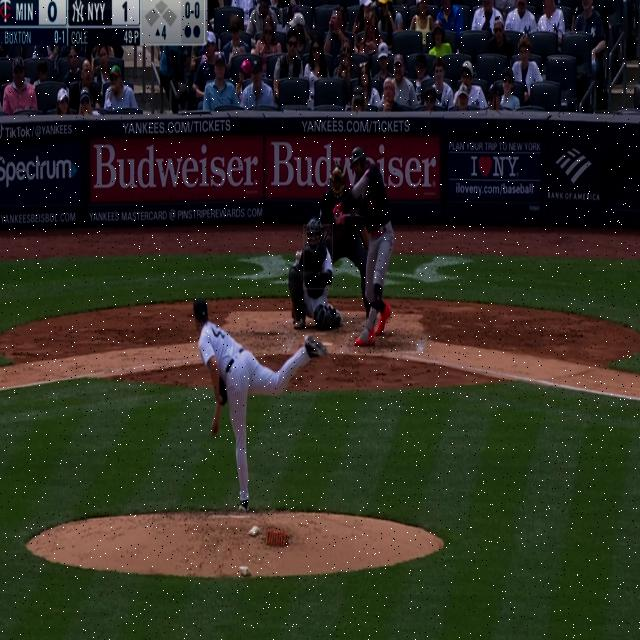baseball: (294, 249, 302, 261)
